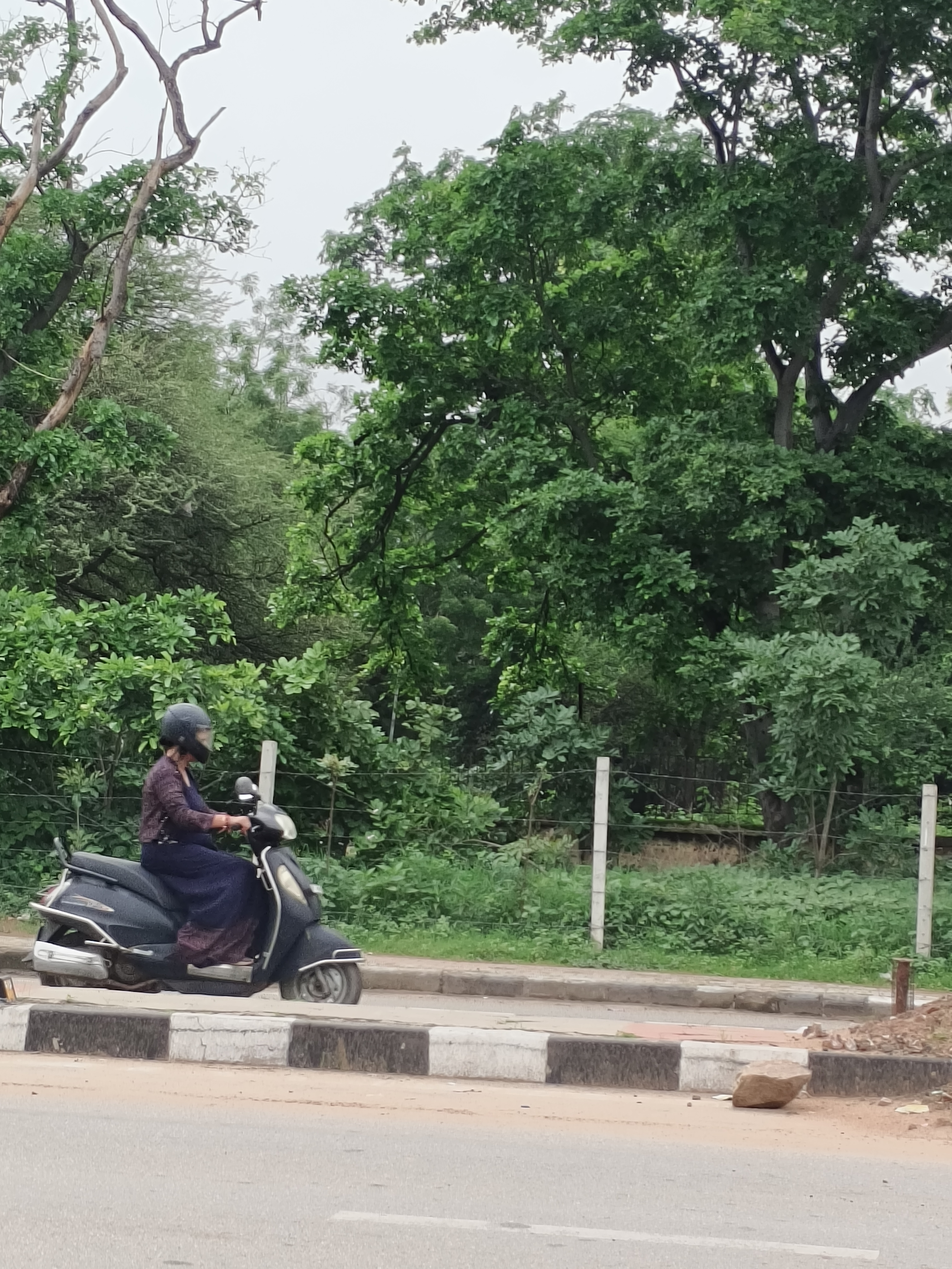BikeWithRider: (24, 695, 368, 1007)
Helmet: (153, 697, 219, 766)
